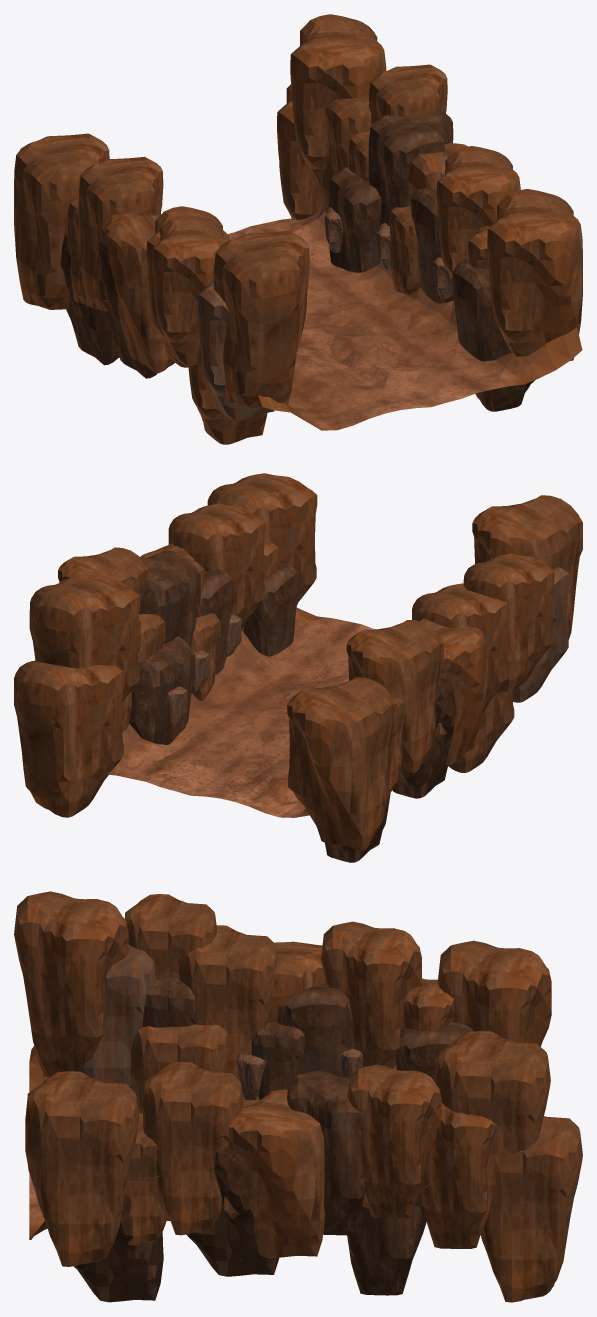
Rendered from desert.obj.
3 views of the same model, one above another, from view 1: azimuth 30°, elevation 25°; view 2: azimuth 150°, elevation 25°; view 3: azimuth 270°, elevation 25° (orthographic). The views are drawn at different scales.
Parts seen in each view (by area): view 1: 平面.001, Cube.021, Cube.001, Cube.033, Cube.013, Cube.022, Cube.031, Cube.003, Cube.029, Cube.007, Cube.006, Cube.009 (+17 smaller); view 2: 平面.001, Cube.033, Cube.020, Cube.013, Cube.031, Cube.022, Cube.021, Cube.003, Cube.001, Cube.029, Cube.027, Cube.009 (+13 smaller); view 3: Cube.001, Cube.021, Cube.020, Cube.003, Cube.005, Cube.012, Cube.013, Cube.031, Cube.033, Cube.027, Cube.011, Cube.007 (+16 smaller).
Part boxes in pixels (bbox=[...]): 平面.001: bbox=[227, 209, 582, 430]; Cube.021: bbox=[213, 231, 309, 407]; Cube.001: bbox=[487, 189, 582, 360]; Cube.033: bbox=[14, 133, 109, 309]; Cube.013: bbox=[290, 14, 386, 187]; Cube.022: bbox=[152, 215, 227, 365]; Cube.031: bbox=[78, 156, 163, 311]; Cube.003: bbox=[436, 146, 520, 279]; Cube.029: bbox=[104, 212, 174, 373]; Cube.007: bbox=[368, 109, 453, 226]; Cube.006: bbox=[452, 258, 535, 411]; Cube.009: bbox=[329, 166, 381, 272]; 平面.001: bbox=[107, 607, 374, 817]; Cube.033: bbox=[287, 677, 397, 850]; Cube.020: bbox=[14, 660, 124, 817]; Cube.013: bbox=[29, 574, 140, 701]; Cube.031: bbox=[346, 620, 444, 773]; Cube.022: bbox=[463, 553, 554, 691]; Cube.021: bbox=[472, 495, 582, 639]; Cube.003: bbox=[168, 503, 265, 630]; Cube.001: bbox=[207, 473, 317, 601]; Cube.029: bbox=[420, 618, 485, 765]; Cube.027: bbox=[412, 583, 508, 712]; Cube.009: bbox=[129, 636, 195, 744]; Cube.001: bbox=[25, 1071, 139, 1266]; Cube.021: bbox=[14, 891, 128, 1077]; Cube.020: bbox=[480, 1116, 582, 1302]; Cube.003: bbox=[143, 1062, 243, 1235]; Cube.005: bbox=[223, 1089, 325, 1258]; Cube.012: bbox=[347, 1064, 441, 1218]; Cube.013: bbox=[436, 1031, 550, 1227]; Cube.031: bbox=[321, 921, 421, 1068]; Cube.033: bbox=[437, 940, 551, 1046]; Cube.027: bbox=[178, 925, 277, 1080]; Cube.011: bbox=[420, 1102, 496, 1248]; Cube.007: bbox=[287, 1070, 364, 1235].
Size of the model in its own units: 106 by 61.26 by 122.
Materials: 4 (4 with a texture image).
